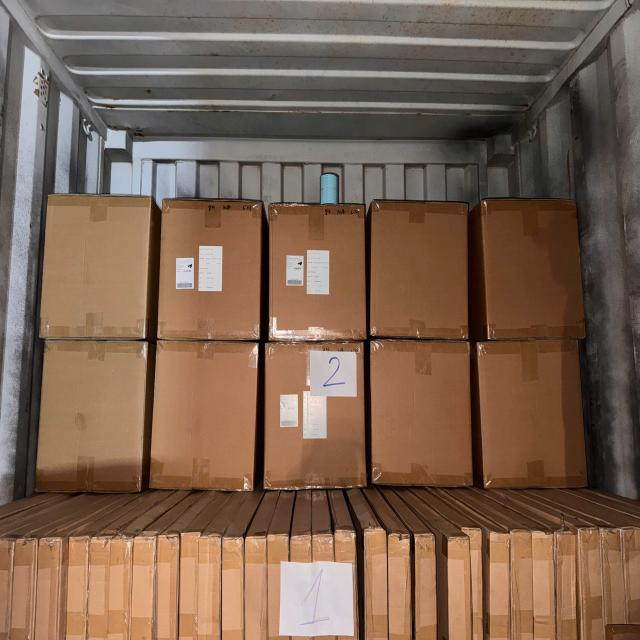Carton: (37, 339, 146, 493), (38, 198, 148, 342), (154, 338, 258, 490), (482, 337, 586, 483), (372, 337, 474, 485), (261, 339, 363, 487), (482, 198, 586, 338), (161, 202, 263, 340), (372, 203, 469, 339), (268, 206, 364, 341)
